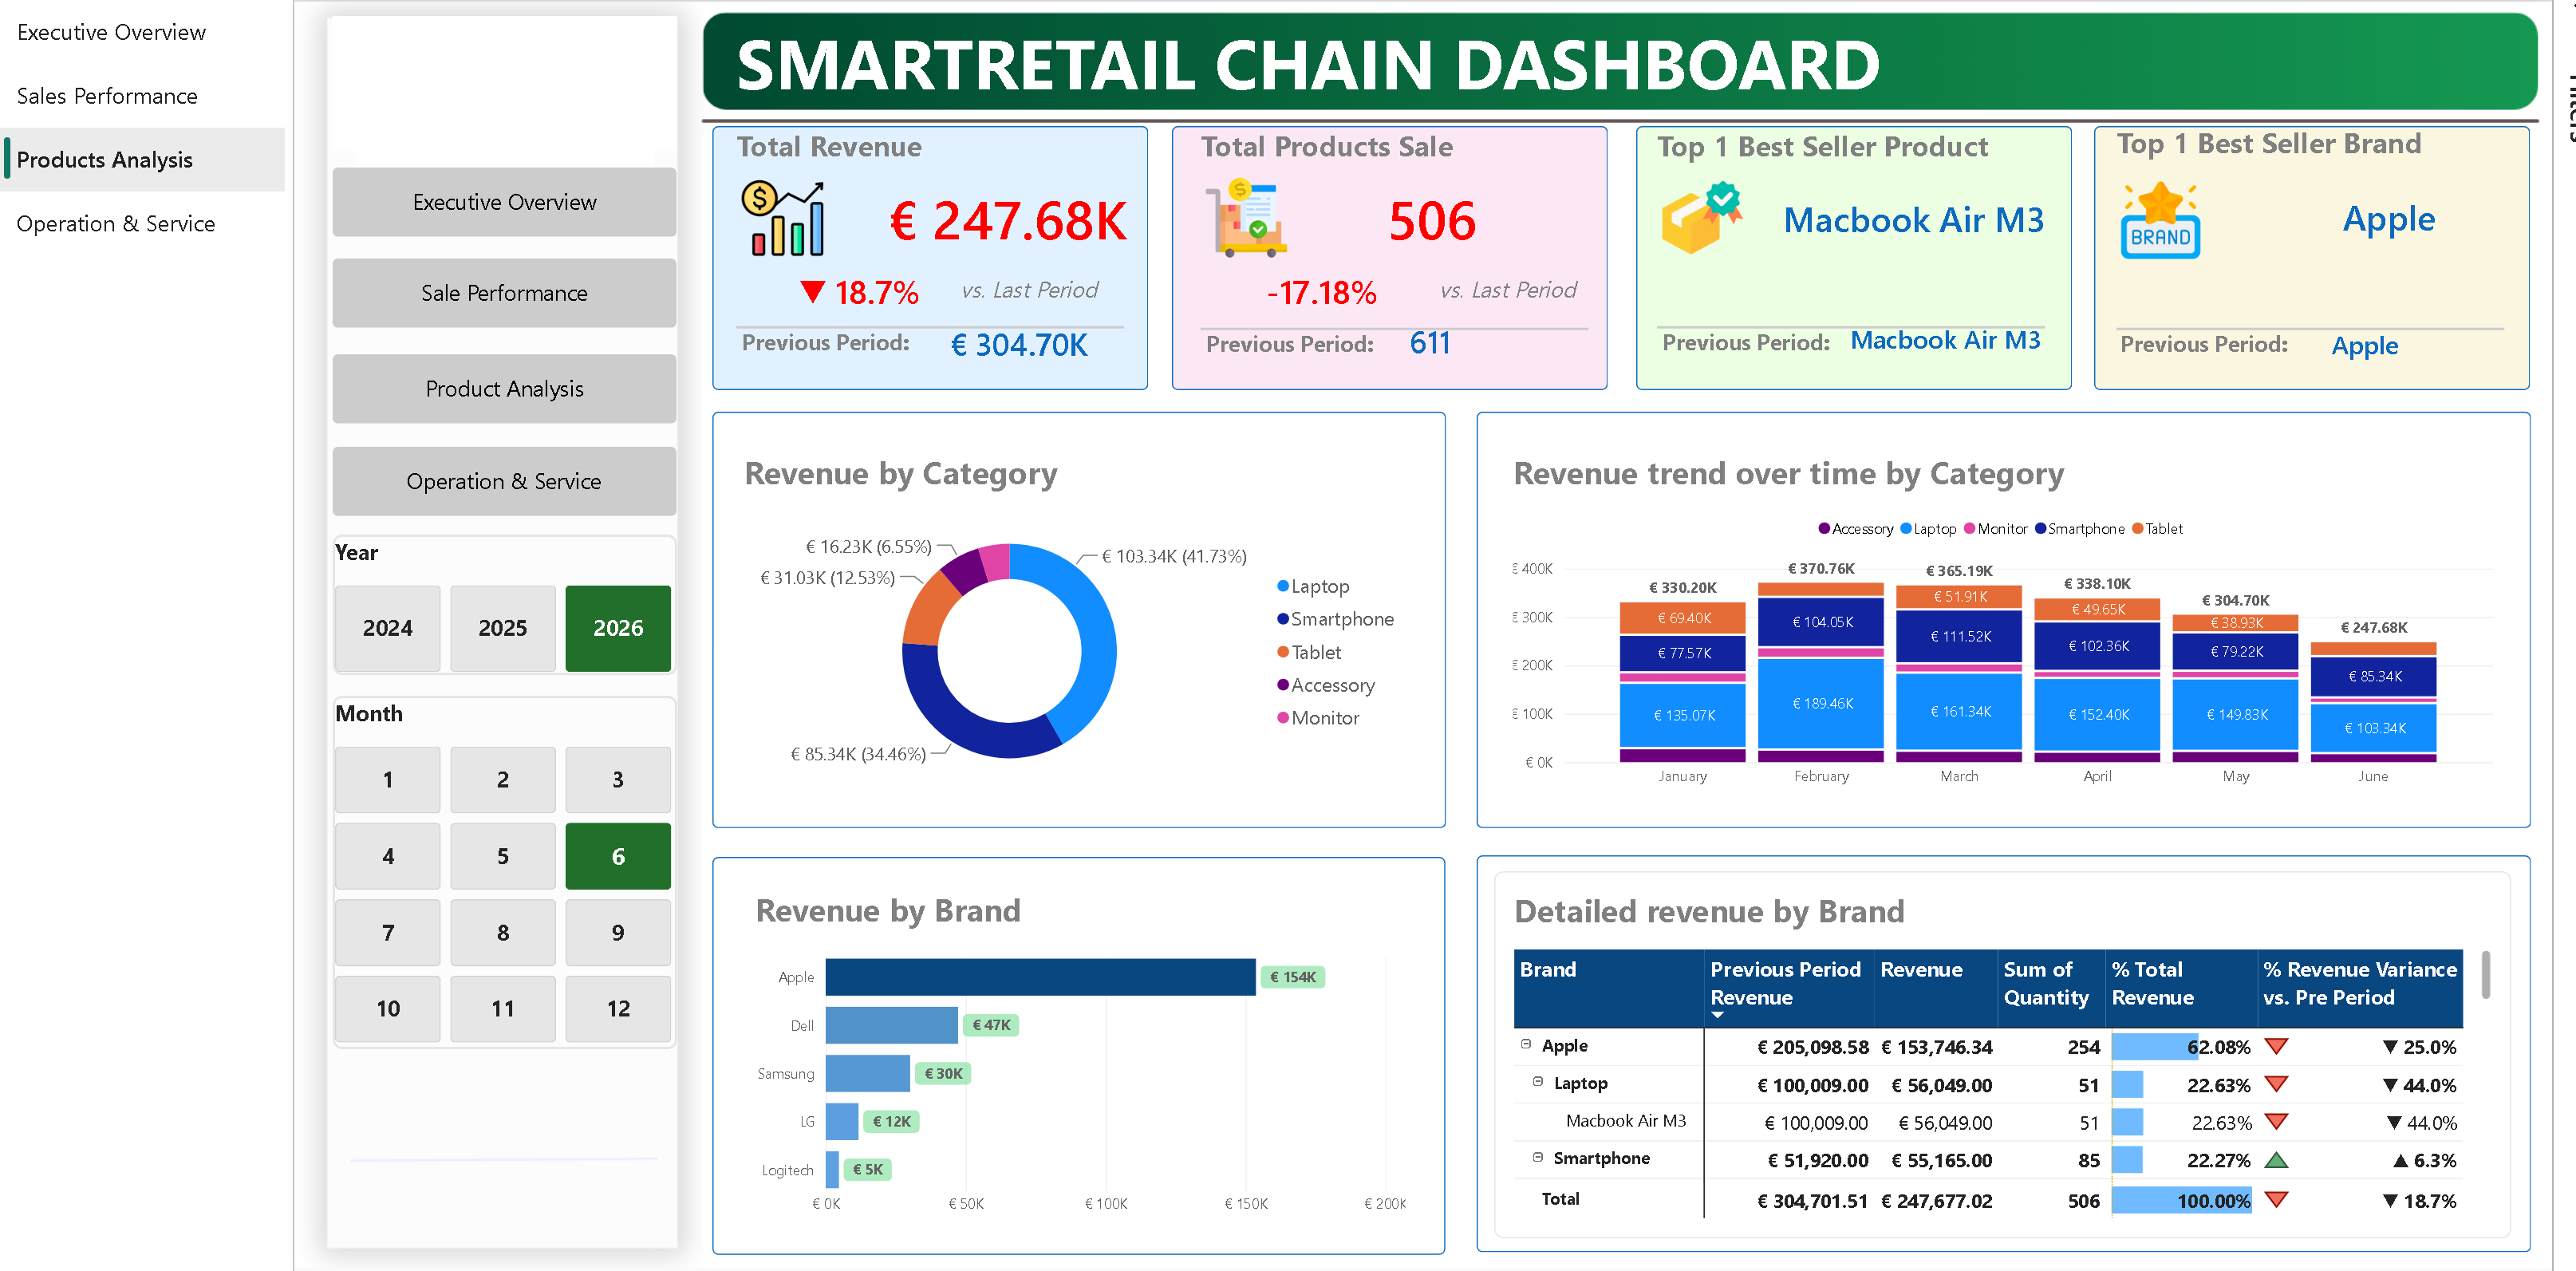

The page's visual inventory and layout, read from the dashboard file:
{"tool":"powerbi","page":{"name":"Products Analysis","canvas":[1920,1080],"ordinal":2},"visuals":[{"type":"shape","box":[355.7,105.5,370.7,224.6],"z":0},{"type":"shape","box":[1140.8,105.5,370.7,224.6],"z":1000},{"type":"shape","box":[1530.8,106.1,370.7,224.6],"z":1000,"group":"g2"},{"type":"textbox","box":[375.3,12.1,1080.6,78.4],"z":2000},{"type":"textbox","box":[375.3,105.5,226.1,43.7],"z":3000},{"type":"shape","box":[746.2,106.2,370.7,224.6],"z":3000,"group":"g1"},{"type":"textbox","box":[1158.5,106.2,296.9,53.8],"z":4000},{"type":"textbox","box":[1549.6,102.8,287.7,46.2],"z":5000,"group":"g2"},{"type":"image","box":[375.3,149.2,78.4,69.3],"z":5000},{"type":"image","box":[1158.9,149.2,78,69],"z":6000},{"type":"shape","box":[375.3,262.2,330,30.1],"z":7000},{"type":"textbox","box":[770.3,106.2,265.2,54.3],"z":8000,"group":"g1"},{"type":"image","box":[1548.9,149.8,78,69],"z":8000,"group":"g2"},{"type":"shape","box":[1158.9,262.2,330,30.1],"z":8000},{"type":"cardVisual","fields":{"Data":["Fact_Sales.Revenue"]},"box":[488.3,149.2,238.1,69.3],"z":9000},{"type":"textbox","box":[375.3,277.3,165.8,34.7],"z":10000},{"type":"shape","box":[1550.4,262.8,330,30.1],"z":11000,"group":"g2"},{"type":"textbox","box":[1158.9,277.3,179.3,34.7],"z":11000},{"type":"image","box":[770.3,149.9,78,69],"z":12000,"group":"g1"},{"type":"advancedSlicerVisual","title":"Month ","fields":{"Values":["DimDate.Month Number"]},"box":[33,590.2,292.9,300.6],"z":12000},{"type":"advancedSlicerVisual","fields":{"Values":["DimDate.Year"]},"box":[33,453.1,292.9,119.6],"z":13000},{"type":"cardVisual","fields":{"Data":["Fact_Sales.Previous Period Revenue"]},"box":[541.5,266.2,164.6,49.2],"z":14000},{"type":"cardVisual","fields":{"Data":["Fact_Sales.% Revenue Variance vs. Pre Period"]},"box":[412.9,200.4,149.2,90.4],"z":15000},{"type":"textbox","box":[1548.9,277.9,167.3,34.7],"z":15000,"group":"g2"},{"type":"textbox","box":[562.1,232.1,164.3,33.2],"z":16000},{"type":"shape","box":[770.3,262.9,330,30.1],"z":16000,"group":"g1"},{"type":"cardVisual","fields":{"Data":["Fact_Sales.Top 1 Product"]},"box":[1249.4,149.2,260.7,69.3],"z":17000},{"type":"cardVisual","fields":{"Data":["Fact_Sales.Top 1 Product in pre period"]},"box":[1306.6,262.2,224.6,49.7],"z":18000},{"type":"shape","box":[355.7,348.1,623.9,354.2],"z":19000},{"type":"donutChart","title":"Revenue by Category","fields":{"Category":["Dim_Product.Category"],"Y":["Fact_Sales.Revenue"]},"box":[366.2,367.7,593.8,319.5],"z":20000},{"type":"textbox","box":[770.3,278,161.3,34.7],"z":21000,"group":"g1"},{"type":"shape","box":[1005.2,348.1,896.7,354.2],"z":21000},{"type":"cardVisual","fields":{"Data":["Fact_Sales.Top 1 Brand"]},"box":[1725.6,148.3,158.2,70.8],"z":22000,"group":"g2"},{"type":"columnChart","title":"Revenue trend over time by Category","fields":{"Category":["DimDate.Month Name"],"Series":["Dim_Product.Category"],"Y":["Fact_Sales.Revenue"]},"box":[1020,367.1,865.7,320],"z":22000},{"type":"cardVisual","fields":{"Data":["Fact_Sales.Top 1 Brand in pre period"]},"box":[1716.2,265.9,145.8,50.3],"z":23000,"group":"g2"},{"type":"shape","box":[355,726.7,623.3,338.3],"z":23000},{"type":"clusteredBarChart","fields":{"Category":["Dim_Product.Brand"],"Y":["Fact_Sales.Revenue"]},"box":[375.7,740,585,311.7],"z":24000},{"type":"shape","box":[1005.2,726.4,896.7,337.6],"z":25000},{"type":"pivotTable","title":"Detailed revenue by Brand","fields":{"Rows":["Dim_Product.Brand","Dim_Product.Category","Dim_Product.ProductName"],"Values":["Fact_Sales.Previous Period Revenue","Fact_Sales.Revenue","Sum(Fact_Sales.Quantity)","Fact_Sales.% Total Revenue","Fact_Sales.% Revenue Variance vs. Pre Period"]},"box":[1020.3,740,865.1,312],"z":26000},{"type":"group","id":"g1","title":"Group 1","box":[746.2,106.2,370.8,224.6],"z":27000},{"type":"group","id":"g2","title":"Group 2","box":[1530.8,102.8,370.7,227.9],"z":28000},{"type":"actionButton","box":[33.2,141.7,292.4,58.8],"z":29000},{"type":"actionButton","box":[33.2,218.5,292.4,58.8],"z":30000},{"type":"textbox","box":[969.2,232.8,131.1,33.2],"z":31000,"group":"g1"},{"type":"actionButton","box":[33.2,299.9,292.4,58.8],"z":31000},{"type":"actionButton","box":[33.2,378.3,292.4,58.8],"z":32000},{"type":"textbox","box":[727,105,431,225],"z":33000},{"type":"textbox","box":[33.2,12.1,292.4,114.5],"z":34000},{"type":"cardVisual","fields":{"Data":["Fact_Sales.Total Products Sale"]},"box":[913.5,149.9,203.5,69.3],"z":36000,"group":"g1"},{"type":"cardVisual","fields":{"Data":["Fact_Sales.Previous Period Product Sale"]},"box":[931.6,262.9,145.8,50.3],"z":37000,"group":"g1"},{"type":"cardVisual","fields":{"Data":["Fact_Sales.% Products Sale Variance vs. Pre Period"]},"box":[809.5,201.1,149.2,90.4],"z":38000,"group":"g1"}]}

Visuals, with their boxes on the page's 1920x1080 design canvas (x1, y1, x2, y2). These are canvas units, not pixel positions in the 2576x1271 screenshot, which may show the page scaled, cropped or inside an application window:
shape: x1=356, y1=106, x2=726, y2=330
shape: x1=1141, y1=106, x2=1512, y2=330
shape: x1=1531, y1=106, x2=1902, y2=331
textbox: x1=375, y1=12, x2=1456, y2=90
textbox: x1=375, y1=106, x2=601, y2=149
shape: x1=746, y1=106, x2=1117, y2=331
textbox: x1=1158, y1=106, x2=1455, y2=160
textbox: x1=1550, y1=103, x2=1837, y2=149
image: x1=375, y1=149, x2=454, y2=218
image: x1=1159, y1=149, x2=1237, y2=218
shape: x1=375, y1=262, x2=705, y2=292
textbox: x1=770, y1=106, x2=1036, y2=160
image: x1=1549, y1=150, x2=1627, y2=219
shape: x1=1159, y1=262, x2=1489, y2=292
cardVisual - Fact_Sales.Revenue: x1=488, y1=149, x2=726, y2=218
textbox: x1=375, y1=277, x2=541, y2=312
shape: x1=1550, y1=263, x2=1880, y2=293
textbox: x1=1159, y1=277, x2=1338, y2=312
image: x1=770, y1=150, x2=848, y2=219
"Month " advancedSlicerVisual: x1=33, y1=590, x2=326, y2=891
advancedSlicerVisual - DimDate.Year: x1=33, y1=453, x2=326, y2=573
cardVisual - Fact_Sales.Previous Period Revenue: x1=542, y1=266, x2=706, y2=315
cardVisual - Fact_Sales.% Revenue Variance vs. Pre Period: x1=413, y1=200, x2=562, y2=291
textbox: x1=1549, y1=278, x2=1716, y2=313
textbox: x1=562, y1=232, x2=726, y2=265
shape: x1=770, y1=263, x2=1100, y2=293
cardVisual - Fact_Sales.Top 1 Product: x1=1249, y1=149, x2=1510, y2=218
cardVisual - Fact_Sales.Top 1 Product in pre period: x1=1307, y1=262, x2=1531, y2=312
shape: x1=356, y1=348, x2=980, y2=702
"Revenue by Category" donutChart: x1=366, y1=368, x2=960, y2=687
textbox: x1=770, y1=278, x2=932, y2=313
shape: x1=1005, y1=348, x2=1902, y2=702
cardVisual - Fact_Sales.Top 1 Brand: x1=1726, y1=148, x2=1884, y2=219
"Revenue trend over time by Category" columnChart: x1=1020, y1=367, x2=1886, y2=687
cardVisual - Fact_Sales.Top 1 Brand in pre period: x1=1716, y1=266, x2=1862, y2=316
shape: x1=355, y1=727, x2=978, y2=1065
clusteredBarChart - Dim_Product.Brand x Fact_Sales.Revenue: x1=376, y1=740, x2=961, y2=1052
shape: x1=1005, y1=726, x2=1902, y2=1064
"Detailed revenue by Brand" pivotTable: x1=1020, y1=740, x2=1885, y2=1052
"Group 1" group: x1=746, y1=106, x2=1117, y2=331
"Group 2" group: x1=1531, y1=103, x2=1902, y2=331
actionButton: x1=33, y1=142, x2=326, y2=200
actionButton: x1=33, y1=218, x2=326, y2=277
textbox: x1=969, y1=233, x2=1100, y2=266
actionButton: x1=33, y1=300, x2=326, y2=359
actionButton: x1=33, y1=378, x2=326, y2=437
textbox: x1=727, y1=105, x2=1158, y2=330
textbox: x1=33, y1=12, x2=326, y2=127
cardVisual - Fact_Sales.Total Products Sale: x1=914, y1=150, x2=1117, y2=219
cardVisual - Fact_Sales.Previous Period Product Sale: x1=932, y1=263, x2=1077, y2=313
cardVisual - Fact_Sales.% Products Sale Variance vs. Pre Period: x1=810, y1=201, x2=959, y2=292
